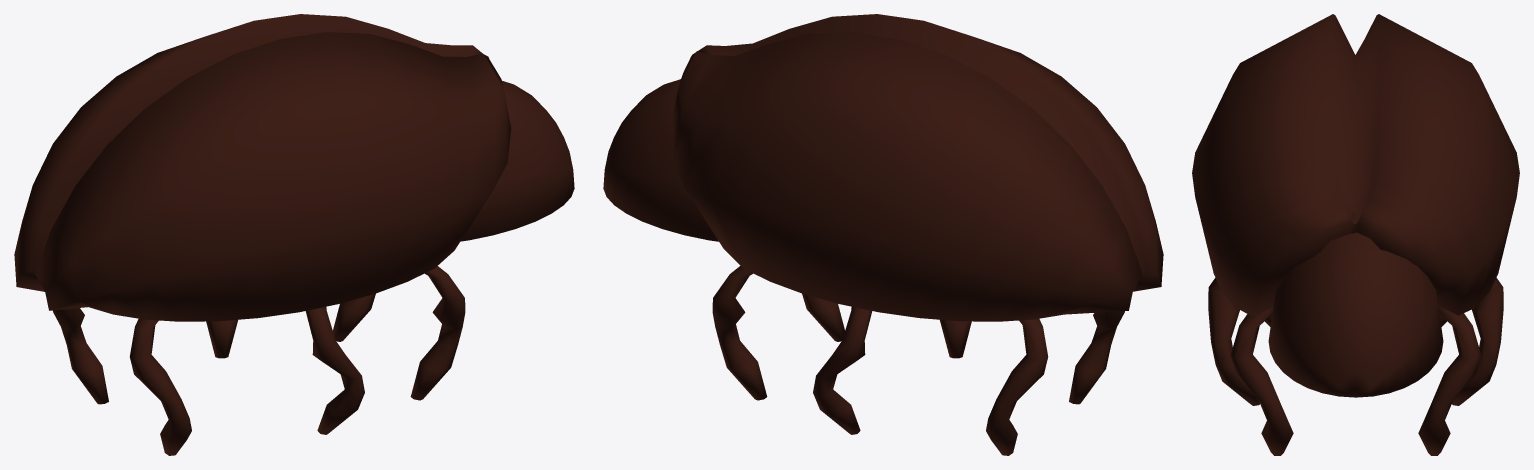
File: Bug.fbx
The picture shows the model from 3 angles, left to right: view 1: azimuth 30°, elevation 25°; view 2: azimuth 150°, elevation 25°; view 3: azimuth 270°, elevation 25°; orthographic projection.
Visible parts, largest first — view 1: Sphere.038, Sphere.039, Cylinder.048, Cylinder.046, Cylinder.047; view 2: Sphere.038, Sphere.039, Cylinder.048, Cylinder.046, Cylinder.047; view 3: Sphere.038, Sphere.039, Cylinder.046, Cylinder.047.
Boxes of the visible parts, left/top/right/bottom form: Sphere.038: left=14, top=14, right=511, bottom=321; Sphere.039: left=460, top=81, right=574, bottom=241; Cylinder.048: left=53, top=308, right=191, bottom=455; Cylinder.046: left=333, top=266, right=465, bottom=400; Cylinder.047: left=206, top=306, right=364, bottom=434; Sphere.038: left=671, top=14, right=1163, bottom=321; Sphere.039: left=603, top=79, right=718, bottom=241; Cylinder.048: left=986, top=311, right=1124, bottom=455; Cylinder.046: left=712, top=266, right=844, bottom=400; Cylinder.047: left=813, top=306, right=971, bottom=434; Sphere.038: left=1192, top=14, right=1519, bottom=316; Sphere.039: left=1268, top=212, right=1443, bottom=397; Cylinder.046: left=1231, top=305, right=1480, bottom=455; Cylinder.047: left=1208, top=277, right=1503, bottom=405.
Bounding box in the file's own units: 17.8 × 11.7 × 9.64.
